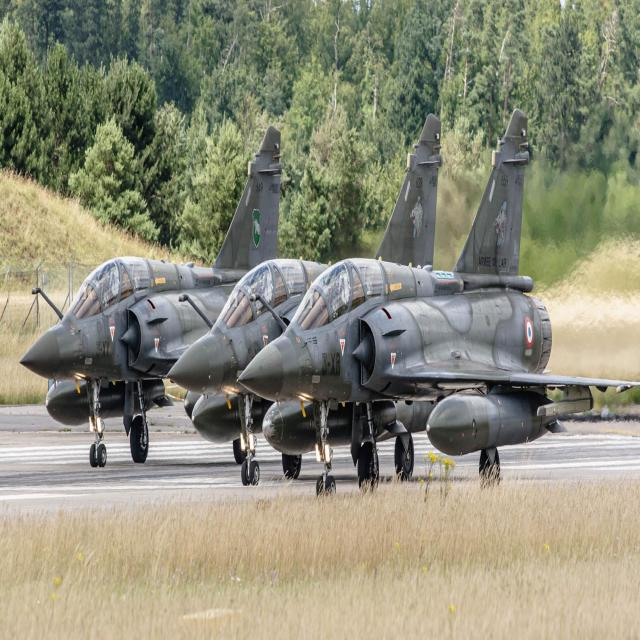MIL_Plane: (236, 108, 640, 496), (166, 113, 443, 486), (0, 126, 224, 467)
